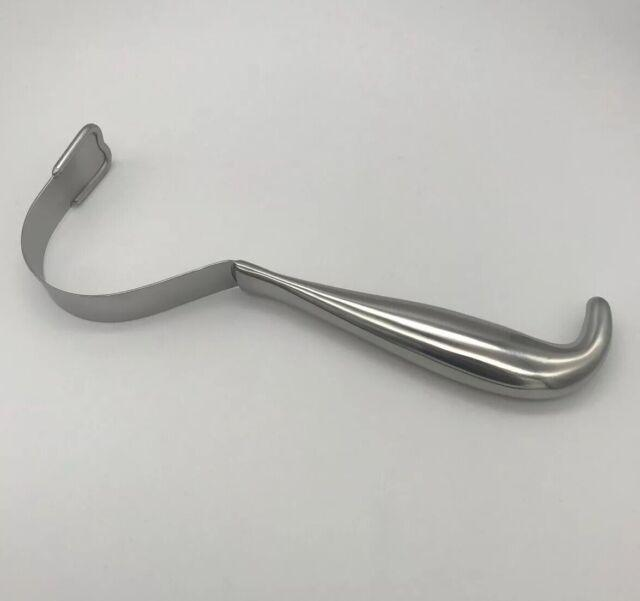Harrington Retractor: (15, 117, 619, 404)
